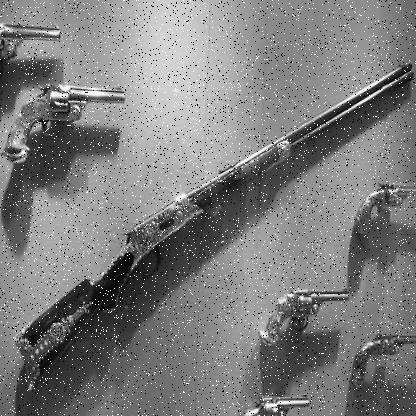rifle: (22, 39, 415, 415)
